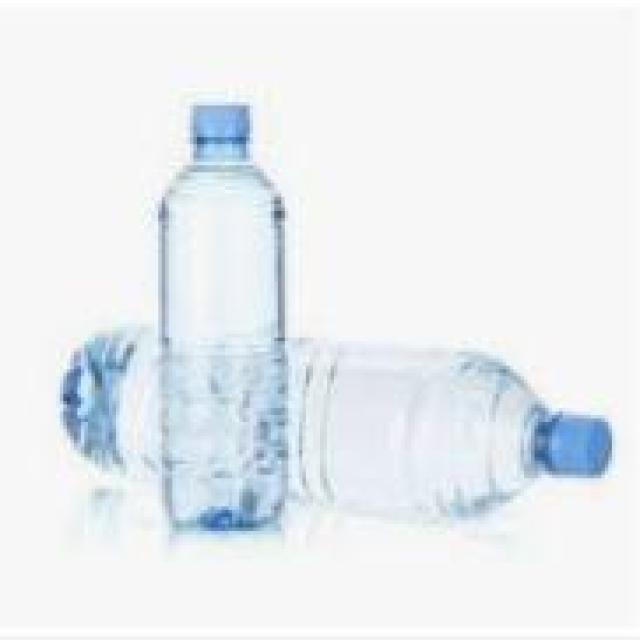bottle: (48, 314, 617, 532), (160, 92, 301, 552)
